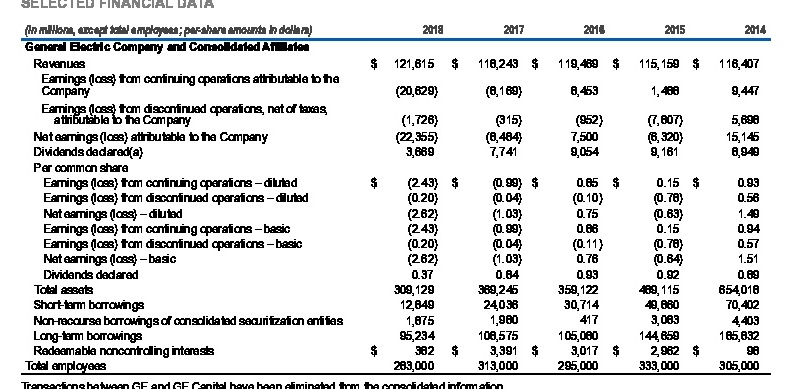table: (0, 0, 788, 389)
